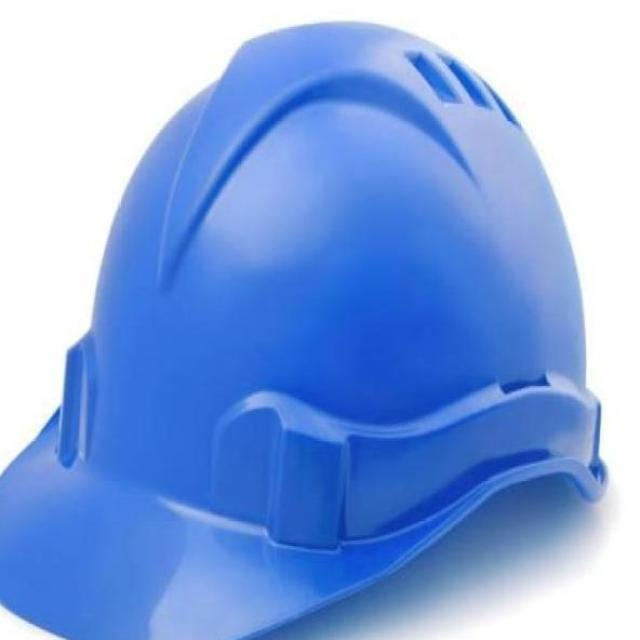blue helmet: (11, 27, 605, 607)
